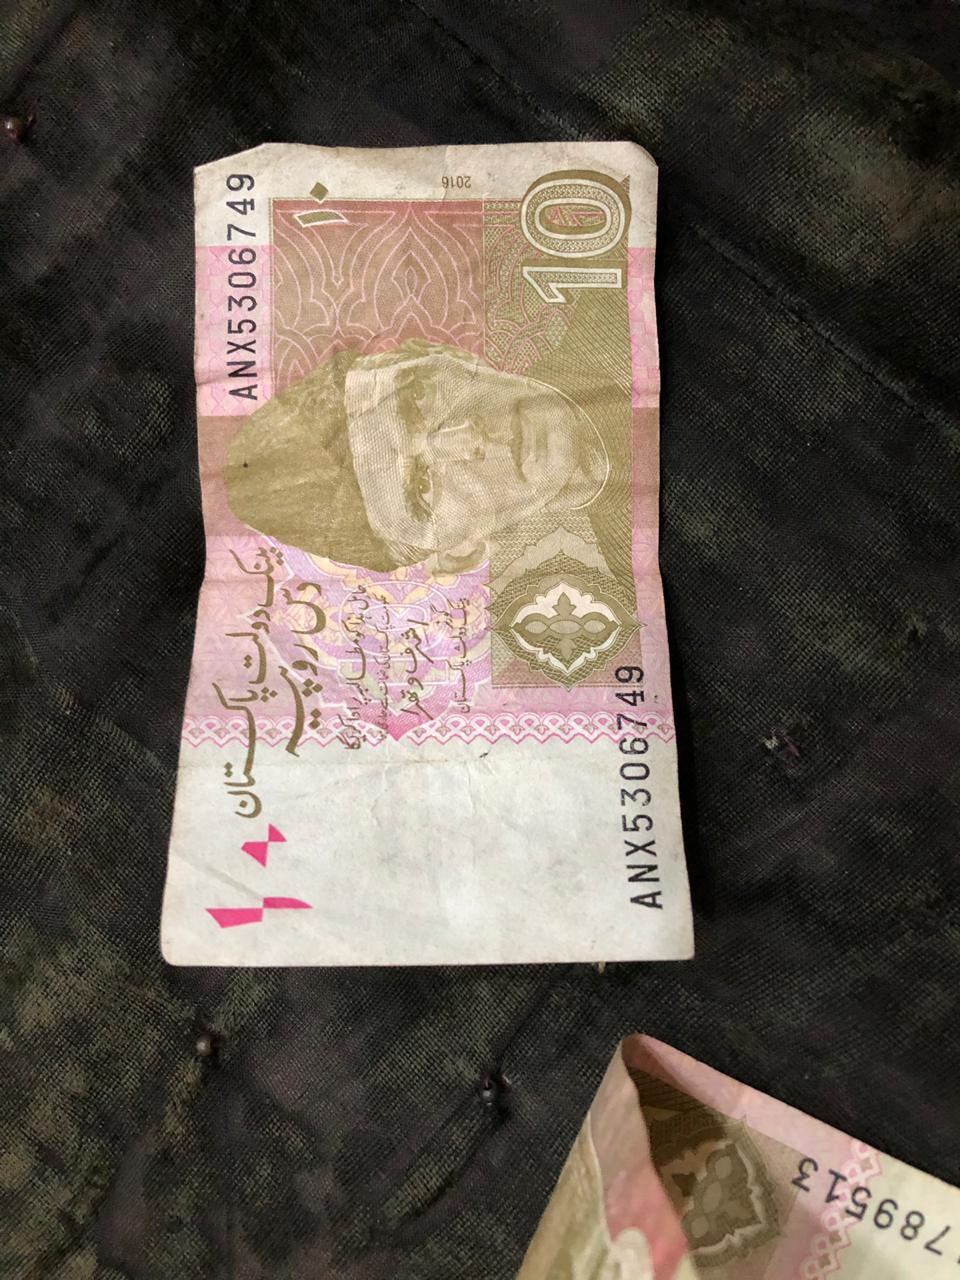10 rupee: (145, 128, 714, 1057)
